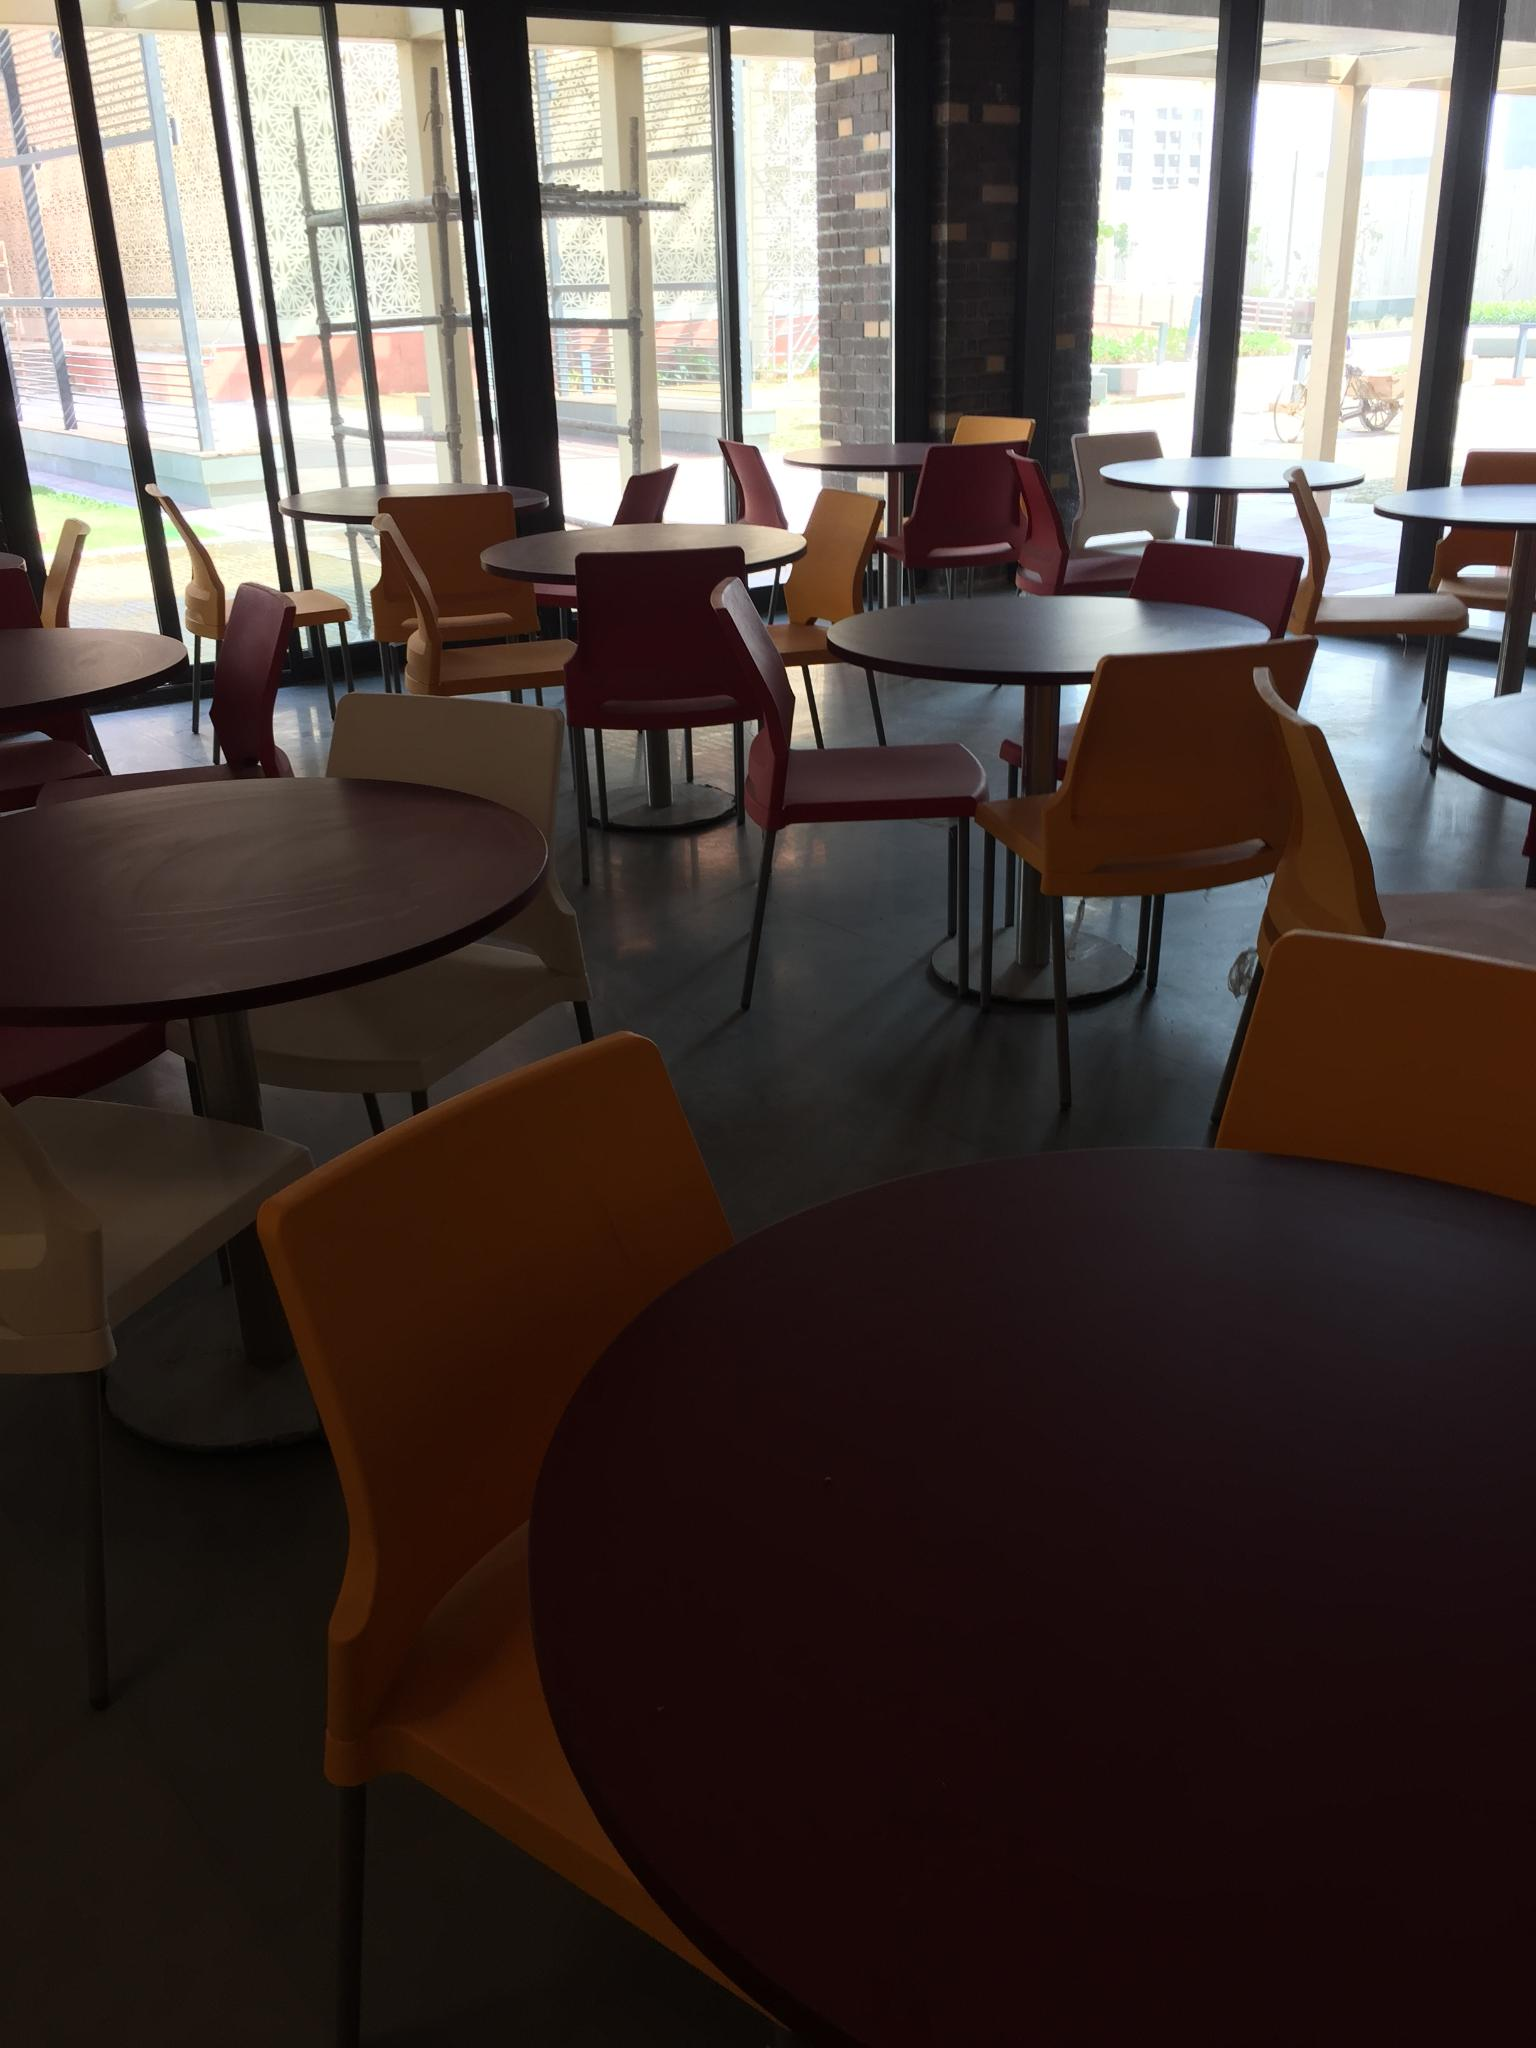chair: (255, 1029, 783, 2042), (0, 1090, 315, 1709), (975, 634, 1320, 1108), (242, 692, 595, 1135), (713, 572, 987, 1009), (1208, 927, 1534, 1205), (1249, 668, 1534, 979), (565, 545, 758, 874), (144, 484, 353, 727), (1421, 450, 1534, 703), (1070, 429, 1181, 550)
